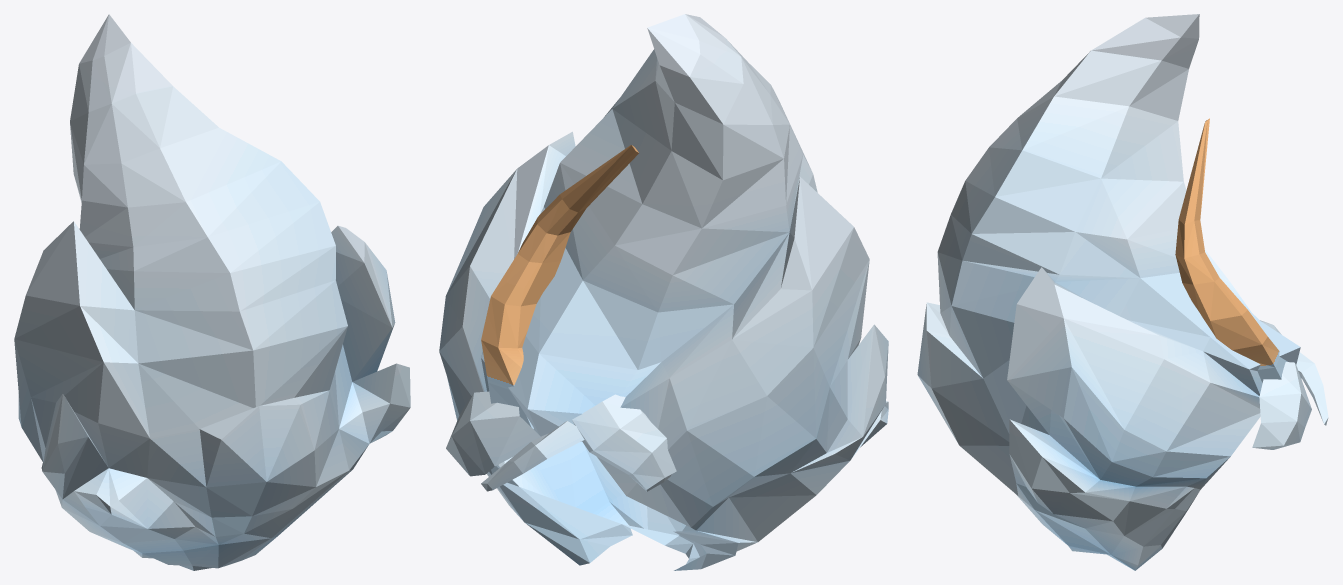
The model's file is CharSkyKid_Hair_APJuggler_01.glb.
The picture shows the model from 3 angles, left to right: view 1: azimuth 30°, elevation 25°; view 2: azimuth 150°, elevation 25°; view 3: azimuth 270°, elevation 25°; orthographic projection. The views are drawn at different scales.
Parts seen in each view (by area): view 1: CharSkyKid_Hair_APJuggler_01; view 2: CharSkyKid_Hair_APJuggler_01; view 3: CharSkyKid_Hair_APJuggler_01.
Part boxes in pixels (bbox=[...]): CharSkyKid_Hair_APJuggler_01: bbox=[14, 14, 410, 570]; CharSkyKid_Hair_APJuggler_01: bbox=[439, 14, 888, 570]; CharSkyKid_Hair_APJuggler_01: bbox=[917, 14, 1328, 570].
Size of the model in its own units: 3.74 by 5.26 by 3.82.
1 material, 1 textured.
